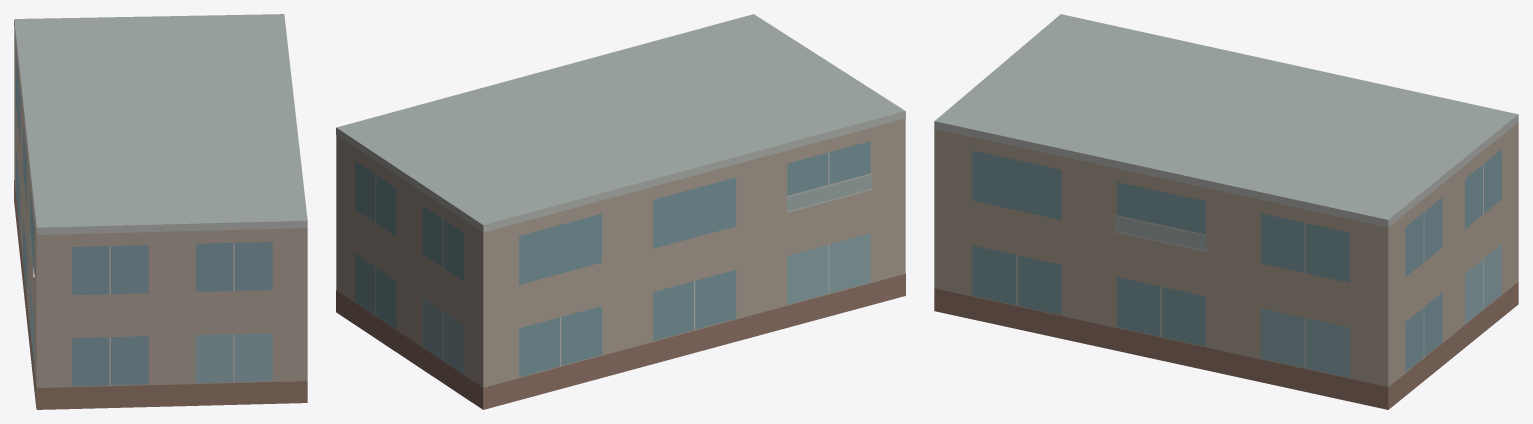
Rendered from survey-upis-32881256.glb.
3 renders of one model, left to right at view 1: azimuth 30°, elevation 25°; view 2: azimuth 150°, elevation 25°; view 3: azimuth 270°, elevation 25°, orthographic. The views are drawn at different scales.
Parts seen in each view (by area): view 1: survey-upis-32881256.tmp; view 2: survey-upis-32881256.tmp; view 3: survey-upis-32881256.tmp.
Part boxes in pixels (left/top/right/bottom): survey-upis-32881256.tmp: left=14, top=14, right=307, bottom=409; survey-upis-32881256.tmp: left=336, top=14, right=905, bottom=409; survey-upis-32881256.tmp: left=934, top=14, right=1518, bottom=409.
Size of the model in its own units: 14.19 by 6.1 by 17.01.
